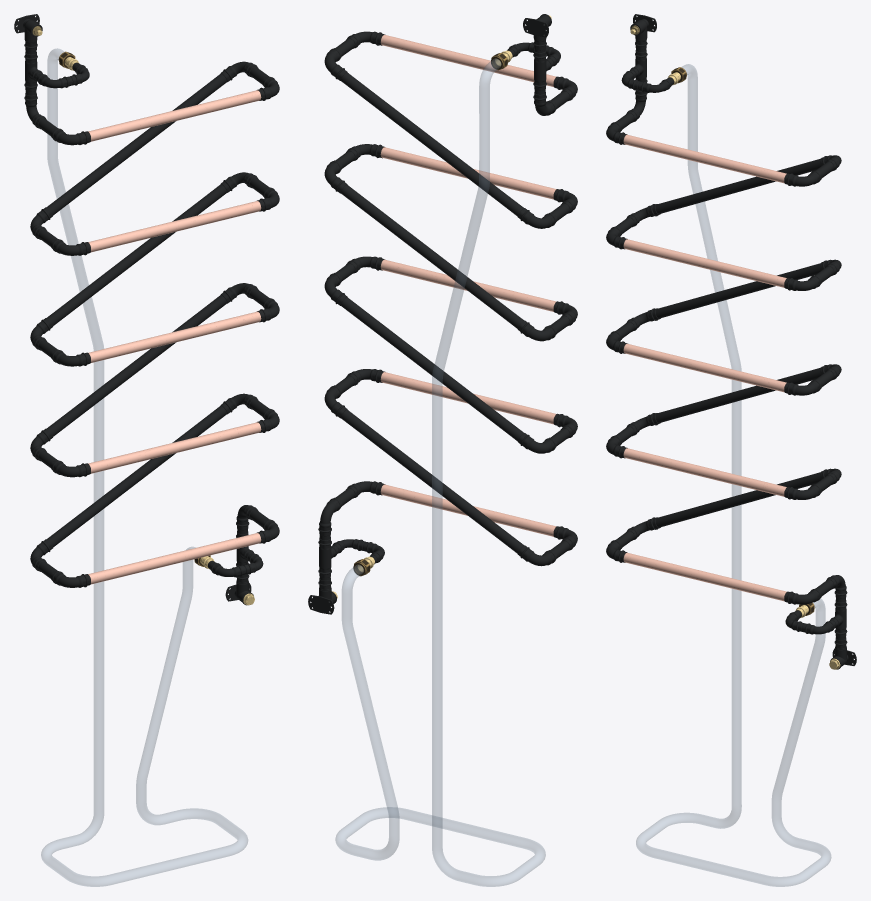
Rendered from el-camin0-rev143b.glb.
3 renders of one model, left to right at view 1: azimuth 30°, elevation 25°; view 2: azimuth 150°, elevation 25°; view 3: azimuth 330°, elevation 25°, orthographic. The views are drawn at different scales.
Parts seen in each view (by area): view 1: Assemble.53, Solid.002, Assemble.42; view 2: Assemble.53, Solid.002, Assemble.42; view 3: Assemble.53, Solid.002, Assemble.42.
Part boxes in pixels (box(x1,y1,x2,y2)): Assemble.53: box(14, 14, 279, 605); Solid.002: box(41, 48, 247, 886); Assemble.42: box(88, 90, 261, 584); Assemble.53: box(308, 14, 577, 614); Solid.002: box(335, 59, 545, 886); Assemble.42: box(380, 34, 556, 536); Assemble.53: box(606, 14, 856, 669); Solid.002: box(636, 64, 831, 886); Assemble.42: box(623, 134, 786, 601).
Size of the model in its own units: 0.5597 by 1.93 by 0.243.
6 materials, 3 textured.
